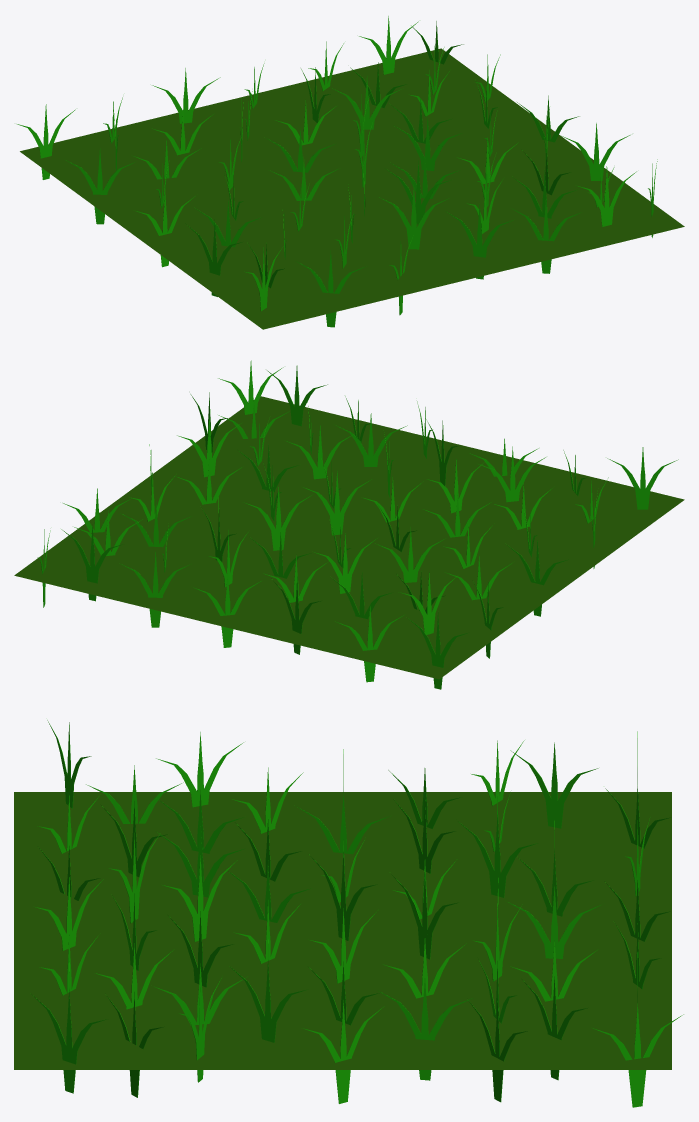
File: walkingTile.fbx
3 renders of one model, top to bottom at view 1: azimuth 30°, elevation 25°; view 2: azimuth 150°, elevation 25°; view 3: azimuth 270°, elevation 25°, orthographic. The views are drawn at different scales.
Parts seen in each view (by area): view 1: walkingFloor; view 2: walkingFloor; view 3: walkingFloor.
Part boxes in pixels (left/top/right/bottom): walkingFloor: left=20, top=48, right=684, bottom=329; walkingFloor: left=14, top=396, right=684, bottom=679; walkingFloor: left=14, top=792, right=671, bottom=1069.
Size of the model in its own units: 25.47 by 5.64 by 24.37.
